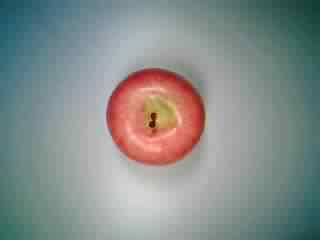apple: (104, 68, 208, 172)
